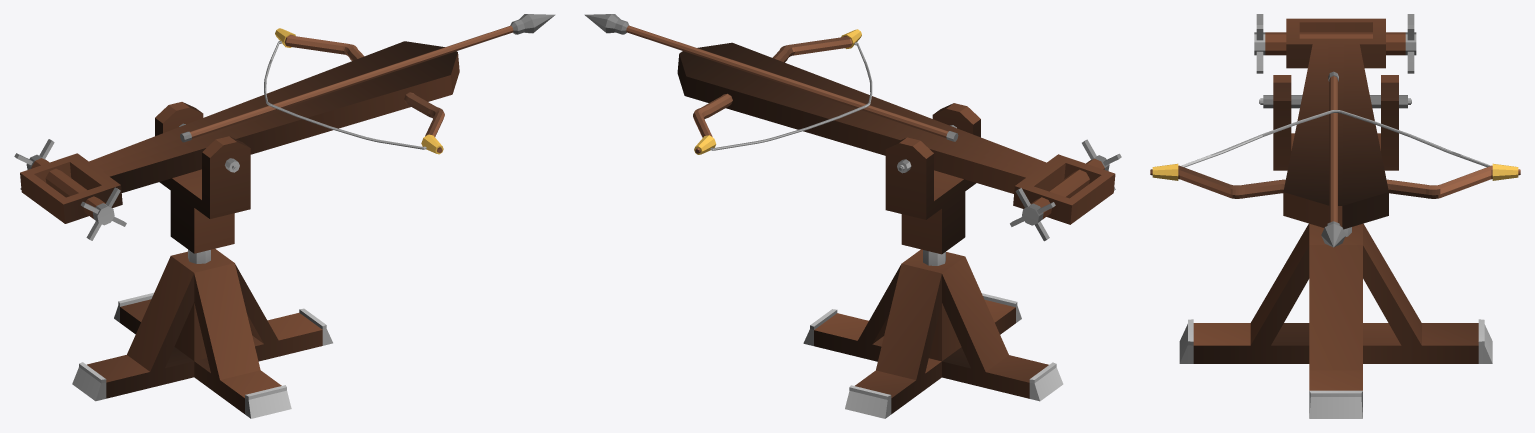
Rendered from ballista.fbx.
3 views of the same model, side by side, from view 1: azimuth 30°, elevation 25°; view 2: azimuth 150°, elevation 25°; view 3: azimuth 270°, elevation 25° (orthographic). The views are drawn at different scales.
Visible parts, largest first — view 1: Cylinder.021, Cube.084; view 2: Cylinder.021, Cube.084; view 3: Cylinder.021, Cube.084.
Boxes of the visible parts, <box> form: Cylinder.021: <box>14,14,555,253</box>; Cube.084: <box>72,249,332,418</box>; Cylinder.021: <box>584,14,1121,254</box>; Cube.084: <box>803,249,1063,418</box>; Cylinder.021: <box>1150,14,1520,247</box>; Cube.084: <box>1179,223,1492,418</box>.
Size of the model in its own units: 158 by 79.88 by 86.66.
